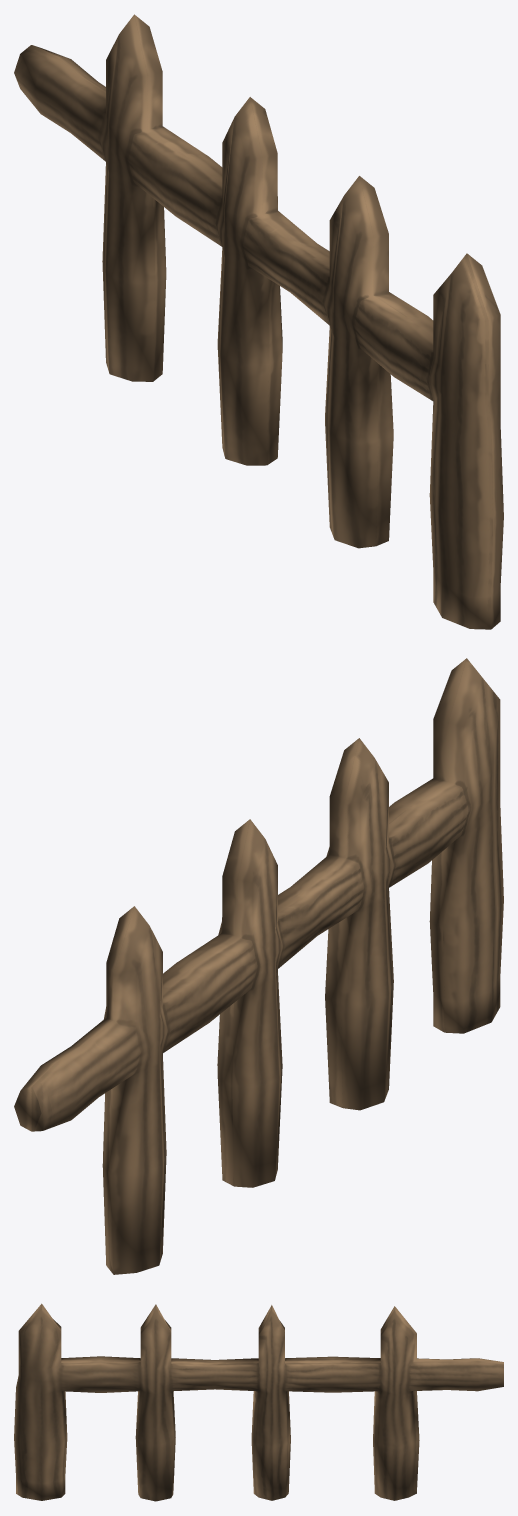
File: Cerca(ponta).fbx
3 renders of one model, top to bottom at view 1: azimuth 30°, elevation 25°; view 2: azimuth 150°, elevation 25°; view 3: azimuth 270°, elevation 25°, orthographic. The views are drawn at different scales.
Parts seen in each view (by area): view 1: Cube; view 2: Cube; view 3: Cube.
Boxes of the visible parts, bbox=[...] form: Cube: bbox=[14, 14, 503, 629]; Cube: bbox=[14, 658, 503, 1274]; Cube: bbox=[14, 1303, 503, 1501].
Size of the model in its own units: 2.91 by 16.2 by 37.7.
